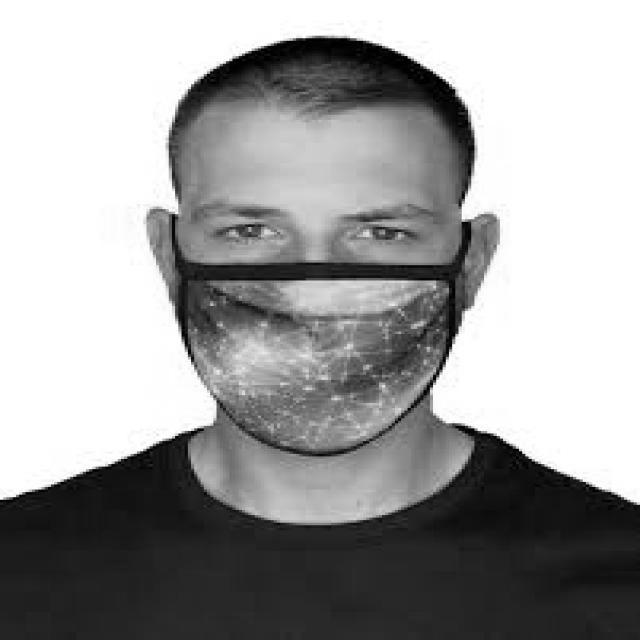fake: (172, 258, 473, 461)
real: (166, 102, 474, 463)
